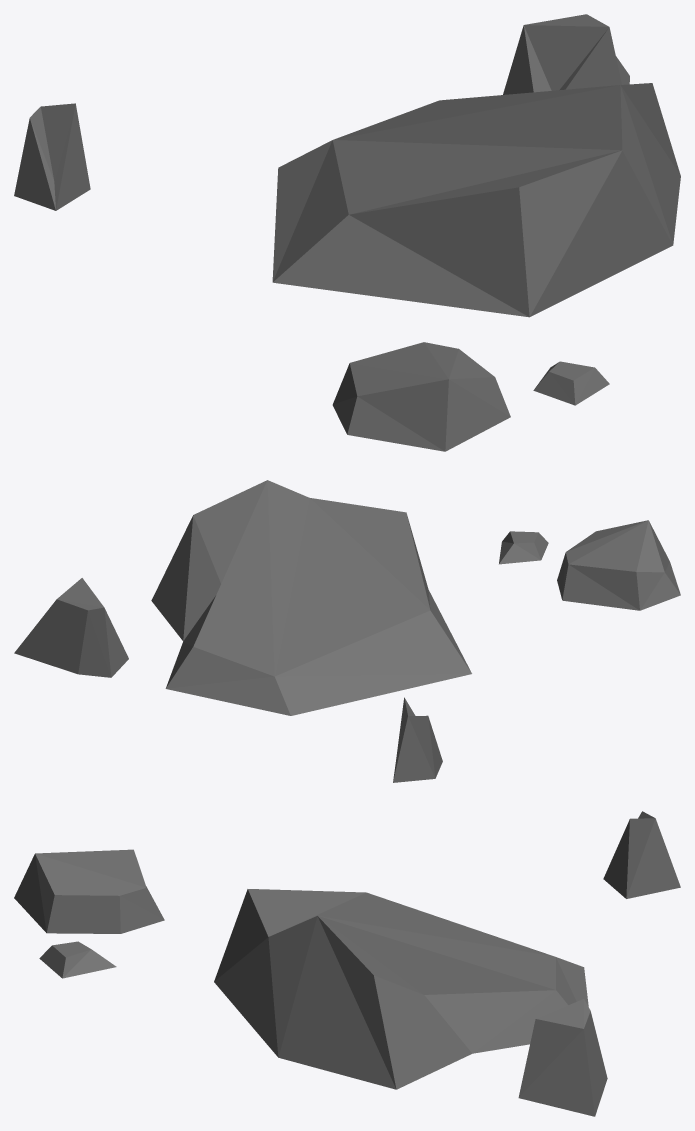
File: Stone_A_18.FBX
3 views of the same model, one above another, from view 1: azimuth 30°, elevation 25°; view 2: azimuth 150°, elevation 25°; view 3: azimuth 270°, elevation 25° (orthographic). The views are drawn at different scales.
Visible parts, largest first — view 1: Stone_A_18; view 2: Stone_A_18; view 3: Stone_A_18.
Boxes of the visible parts, <box> form: Stone_A_18: <box>14,14,680,451</box>; Stone_A_18: <box>14,480,680,782</box>; Stone_A_18: <box>14,811,680,1116</box>.
Size of the model in its own units: 1.25 by 0.3077 by 1.44.
